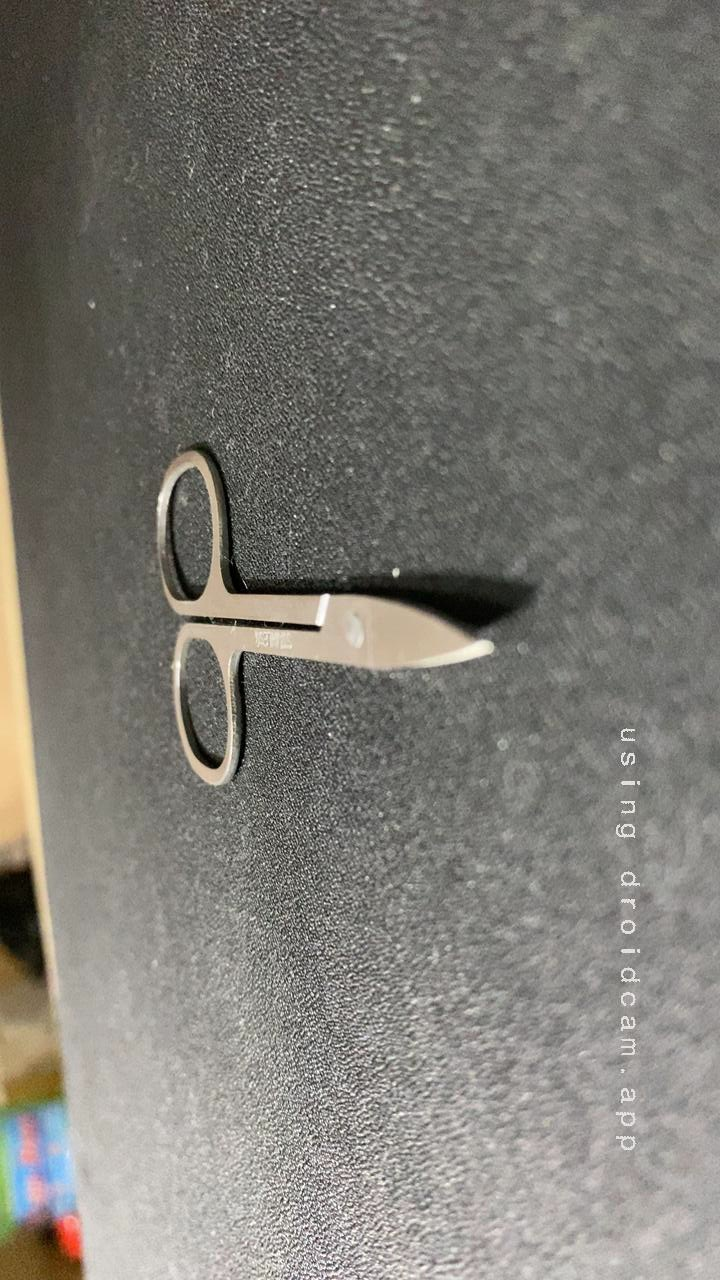scissor: (44, 410, 339, 755)
